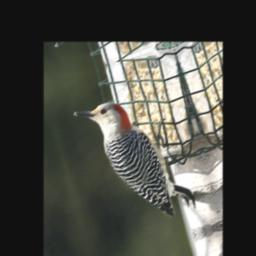Woodpecker: (73, 80, 197, 241)
